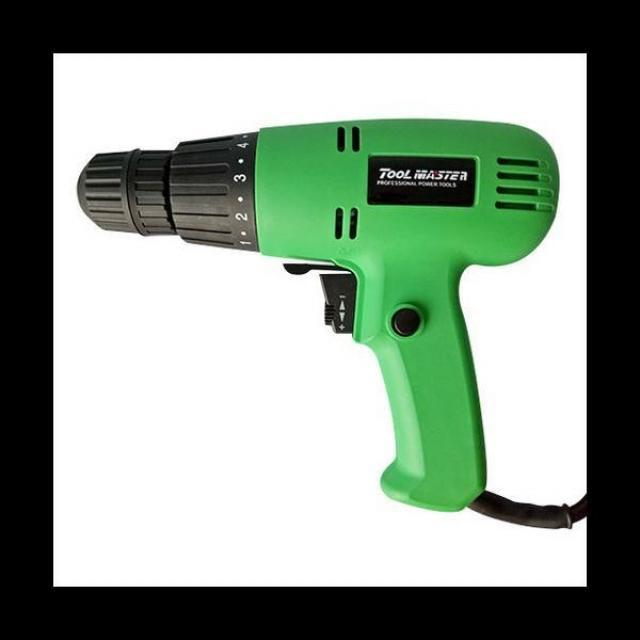drill: (76, 118, 574, 530)
